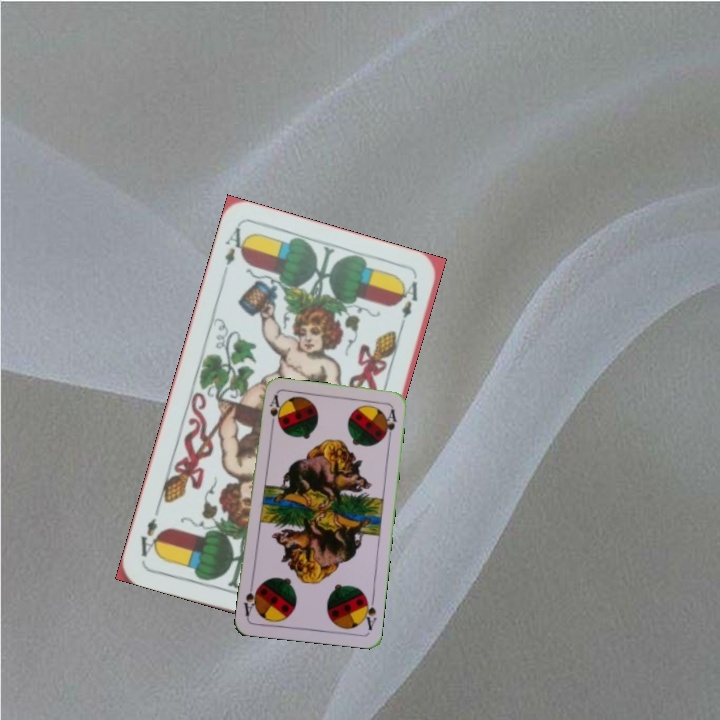EA: (218, 223, 251, 282)
SA: (359, 591, 379, 633), (266, 392, 281, 432)
